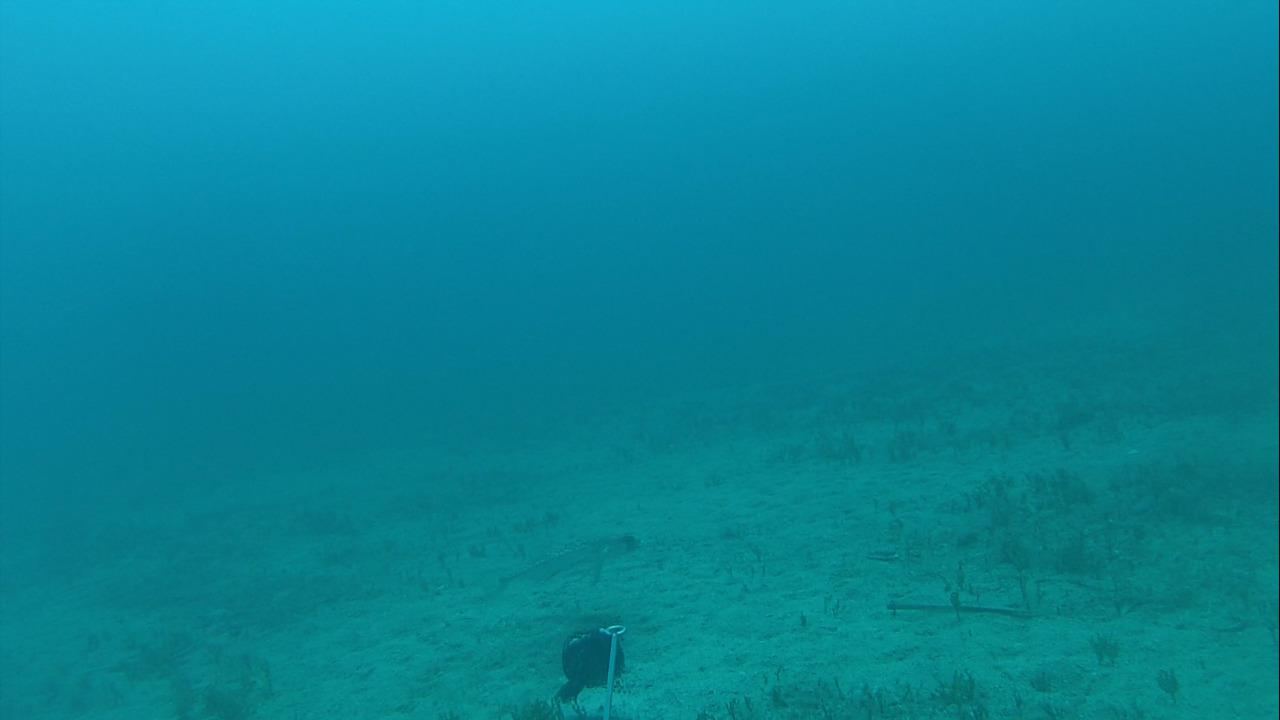dactylopterus: (481, 528, 647, 602)
